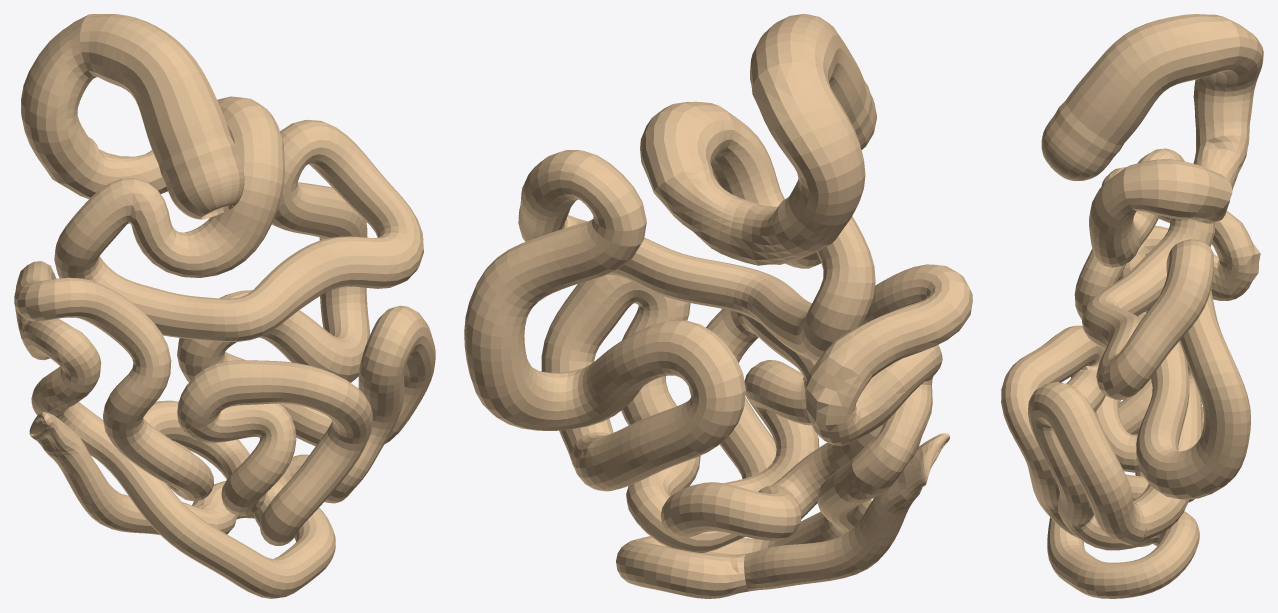
Rendered from small-intestine.glb.
The picture shows the model from 3 angles, left to right: view 1: azimuth 30°, elevation 25°; view 2: azimuth 150°, elevation 25°; view 3: azimuth 270°, elevation 25°; orthographic projection. The views are drawn at different scales.
Visible parts, largest first — view 1: small-intestine; view 2: small-intestine; view 3: small-intestine.
Boxes of the visible parts, box(x1,y1,x2,y2) form: small-intestine: box(14, 14, 435, 598); small-intestine: box(464, 14, 972, 598); small-intestine: box(1001, 14, 1263, 598).
Size of the model in its own units: 0.1616 by 0.2172 by 0.1.
